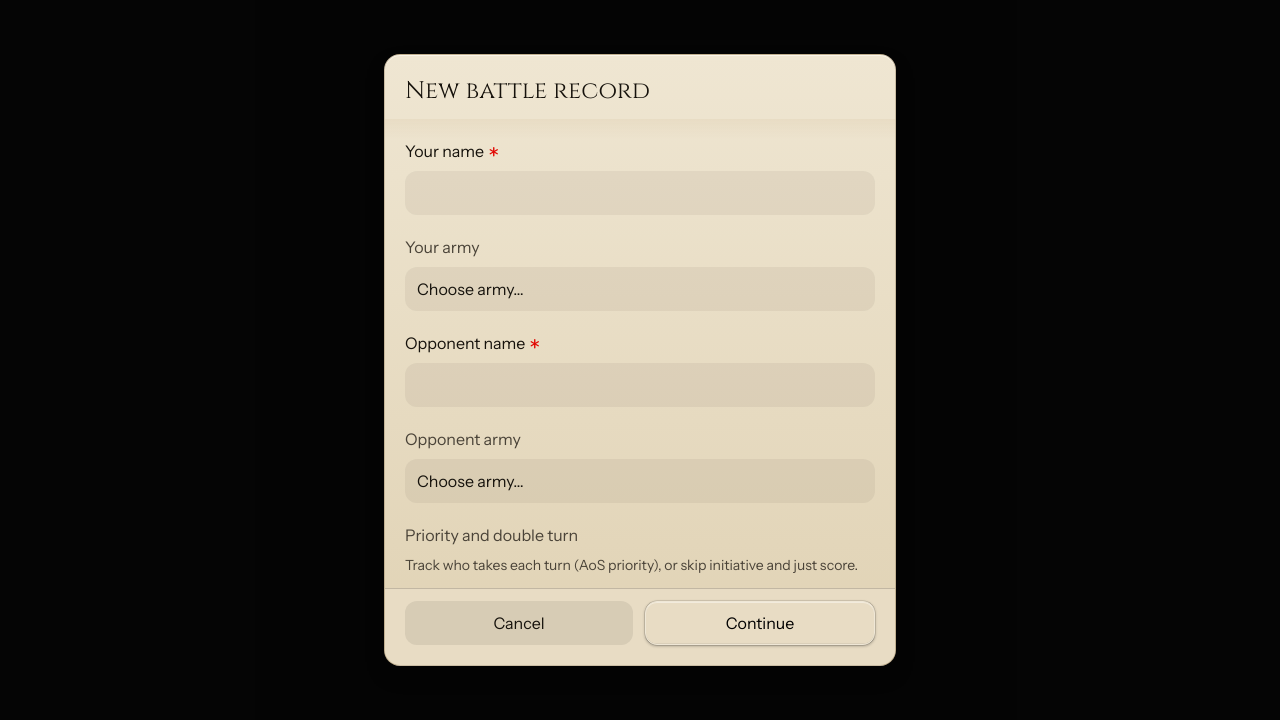
Test: BattleRecordCreateSheet › drops a warning as soon as that field is filled
This screenshot has width=1280, height=720.
Click the button "Continue" at {"x": 760, "y": 623}, box [645,601,875,645]
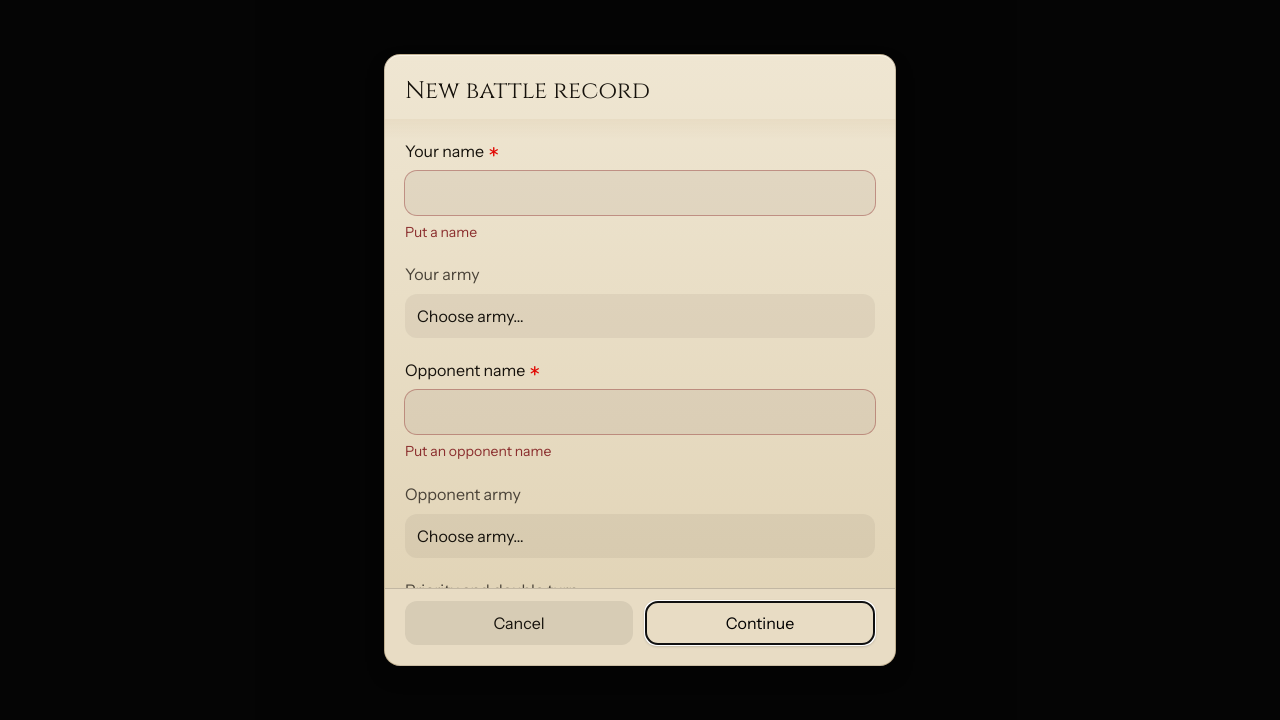
Check: the text "Put a name" is shown, box [405,223,477,241]
Type "Rad" into the field labelled "Your name" at {"x": 640, "y": 193}, box [405,171,875,215]
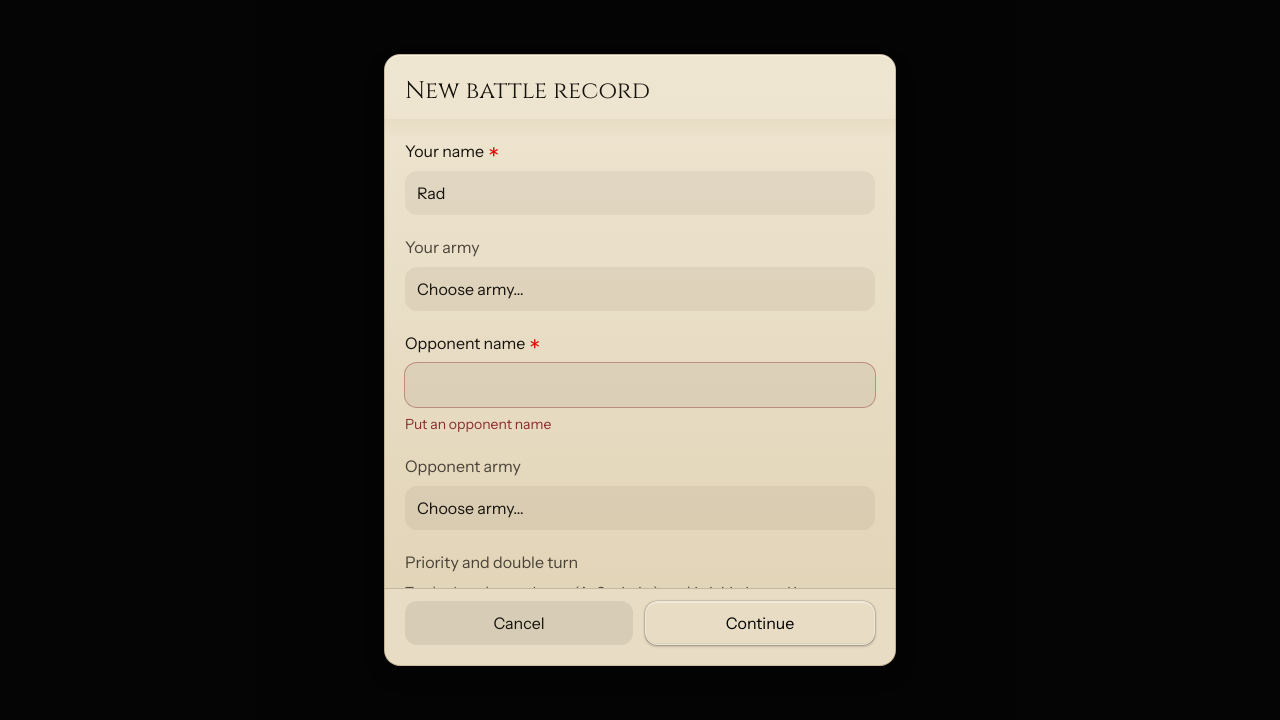
Check: the text "Put an opponent name" is shown, box [405,415,551,433]
Check: the text "Put a name" is gone
